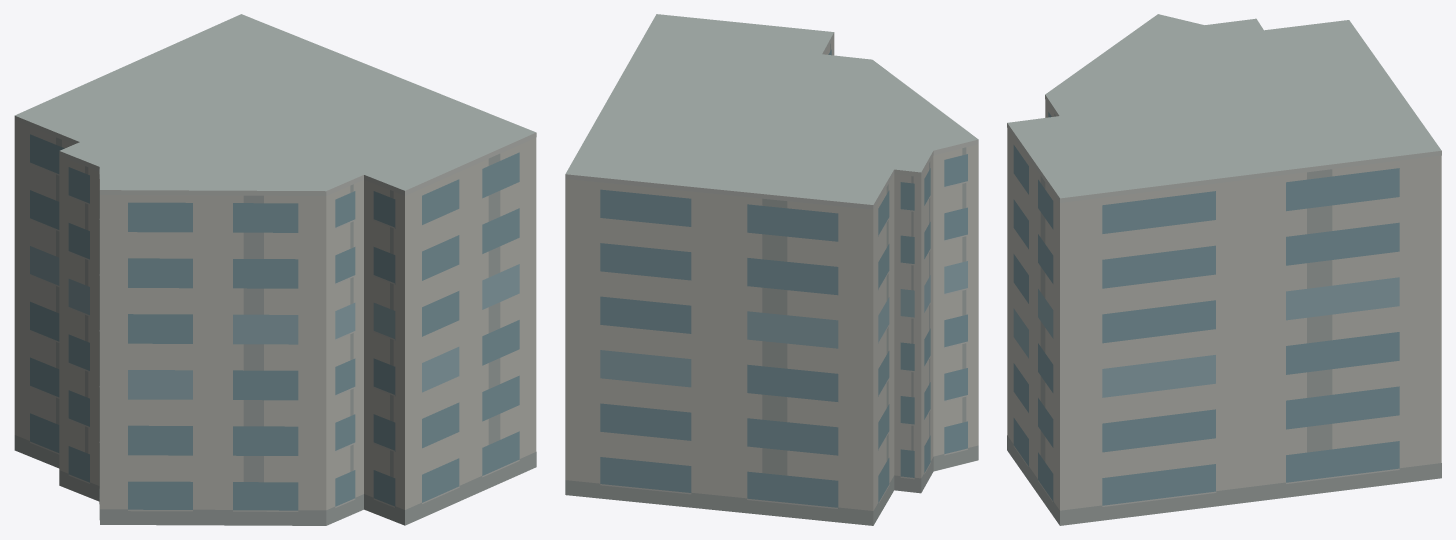
Rendered from survey-upis-32837318.glb.
3 renders of one model, left to right at view 1: azimuth 30°, elevation 25°; view 2: azimuth 150°, elevation 25°; view 3: azimuth 270°, elevation 25°, orthographic. The views are drawn at different scales.
Visible parts, largest first — view 1: survey-upis-32837318.tmp; view 2: survey-upis-32837318.tmp; view 3: survey-upis-32837318.tmp.
Boxes of the visible parts, x1,y1,x2,y2 form: survey-upis-32837318.tmp: (14, 14, 536, 525); survey-upis-32837318.tmp: (565, 14, 978, 525); survey-upis-32837318.tmp: (1007, 14, 1441, 525).
Size of the model in its own units: 20.06 by 16.6 by 19.98.
